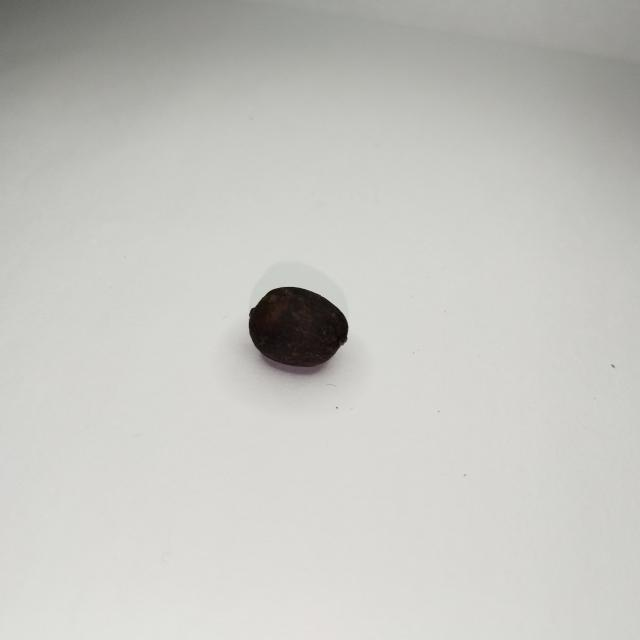Danado: (249, 289, 347, 367)
